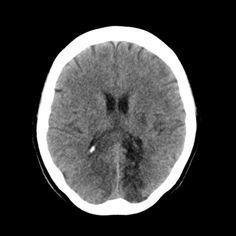Normal_Brain: (3, 2, 236, 236)
